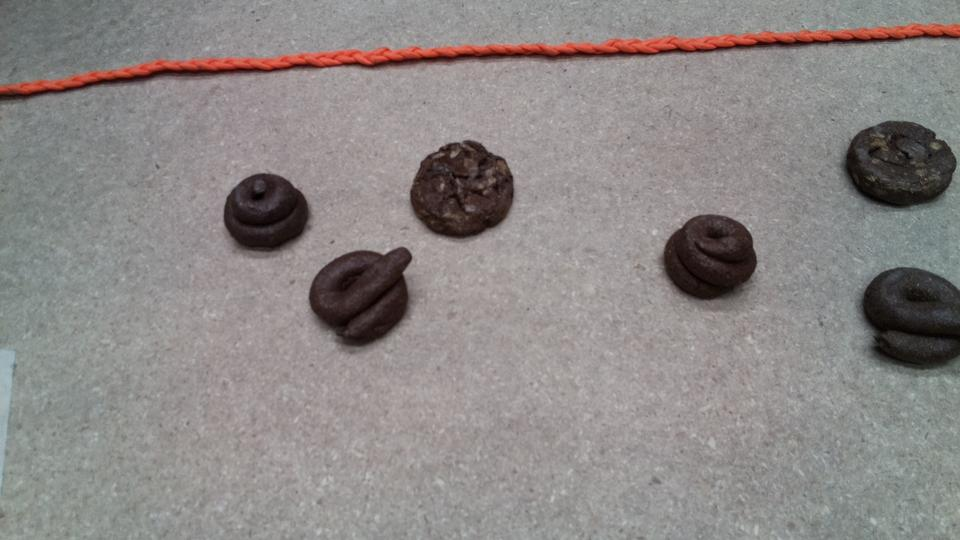poop: (313, 240, 425, 354), (841, 114, 957, 214), (861, 261, 960, 375), (407, 137, 520, 236), (664, 207, 764, 309), (215, 167, 315, 252)
rope: (140, 33, 679, 78), (635, 13, 960, 72), (3, 57, 210, 111)
